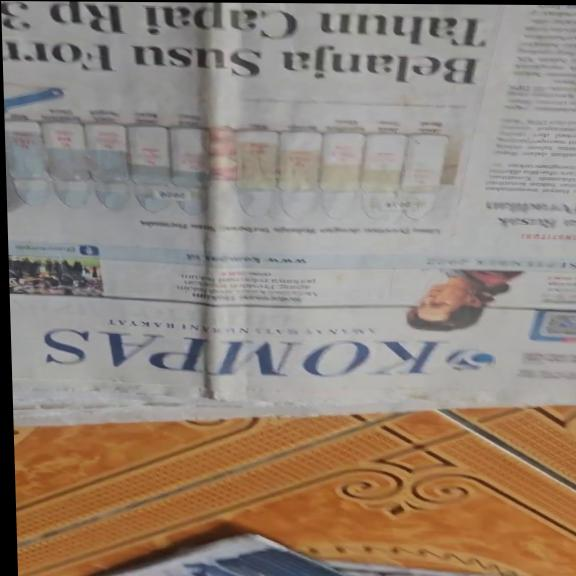Kertas: (8, 8, 576, 402)
